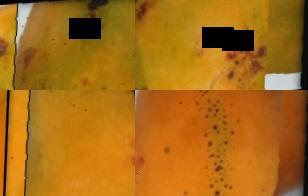PartiallyRipe: (135, 0, 308, 90), (0, 90, 135, 196), (0, 0, 135, 90)
Ripe: (135, 90, 308, 196)
